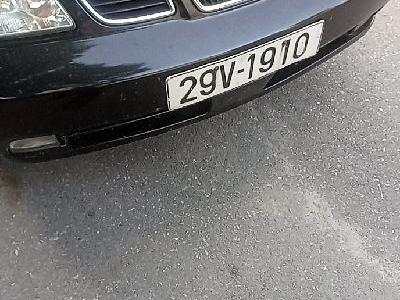number: (165, 20, 325, 115)
